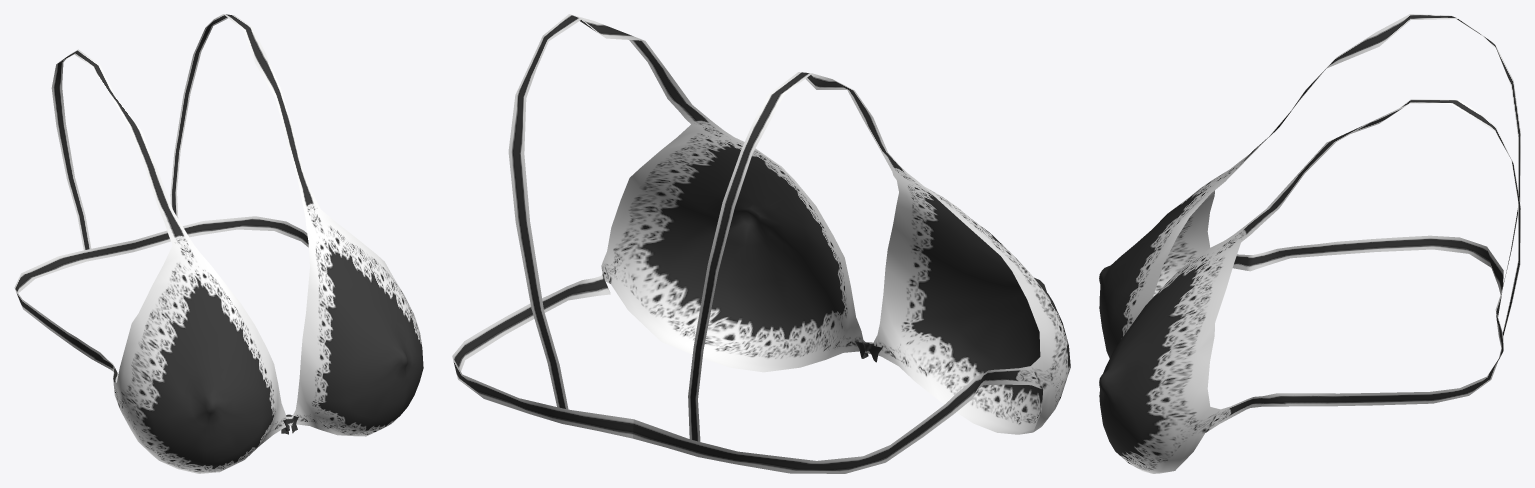
Rendered from MaidBra.fbx.
The picture shows the model from 3 angles, left to right: view 1: azimuth 30°, elevation 25°; view 2: azimuth 150°, elevation 25°; view 3: azimuth 270°, elevation 25°; orthographic projection. The views are drawn at different scales.
Visible parts, largest first — view 1: MaidBra_mesh; view 2: MaidBra_mesh; view 3: MaidBra_mesh.
Part boxes in pixels (x1,y1,x2,y2): MaidBra_mesh: [14, 14, 423, 473]; MaidBra_mesh: [452, 14, 1070, 473]; MaidBra_mesh: [1099, 14, 1520, 473].
Size of the model in its own units: 23 by 24.22 by 25.44.
1 material, 1 textured.
